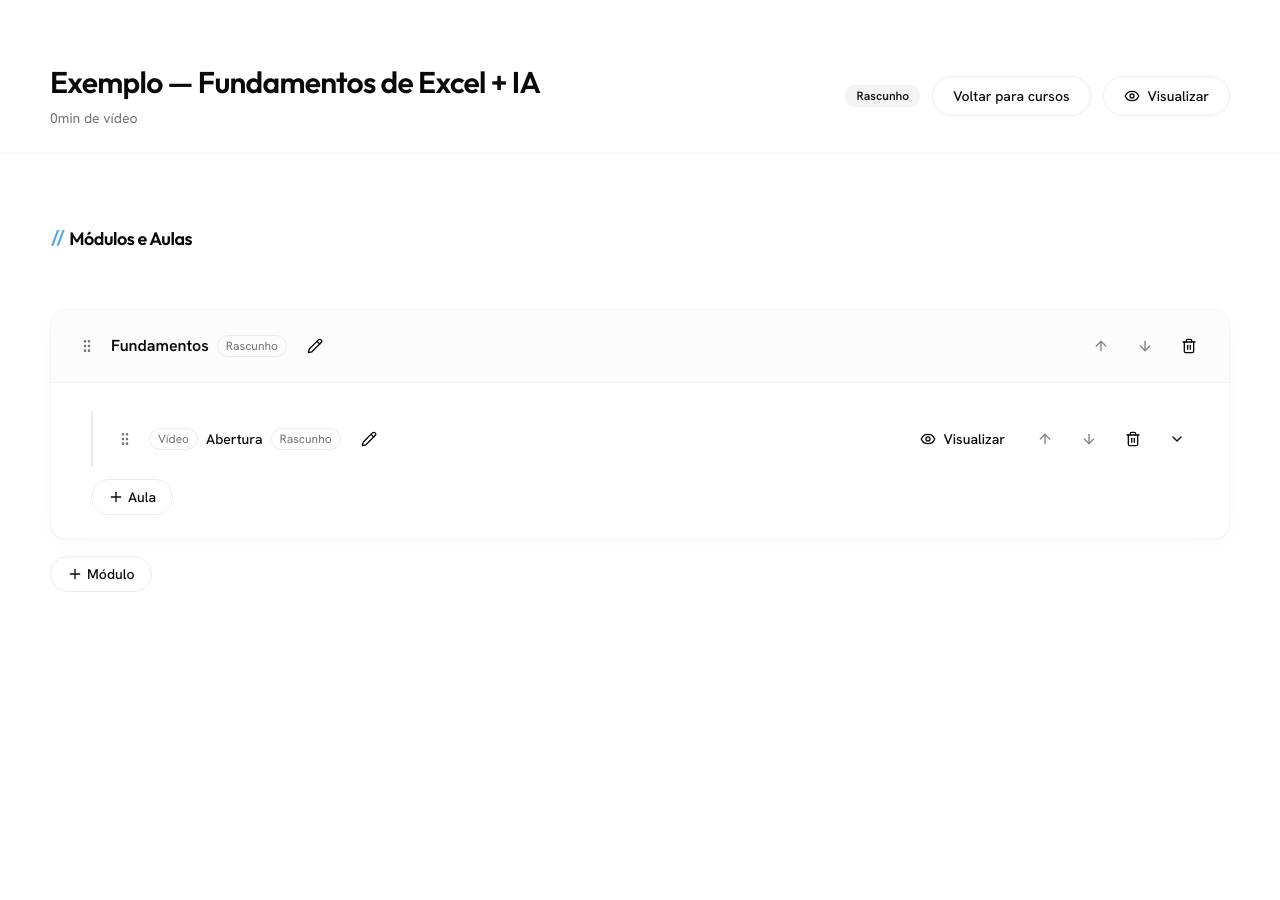
Test: arquivos da aula › aula sem arquivo: diz isso
Click the button named "Abrir a aula Abertura".
click(1177, 439)  # box [1157,419,1197,459]
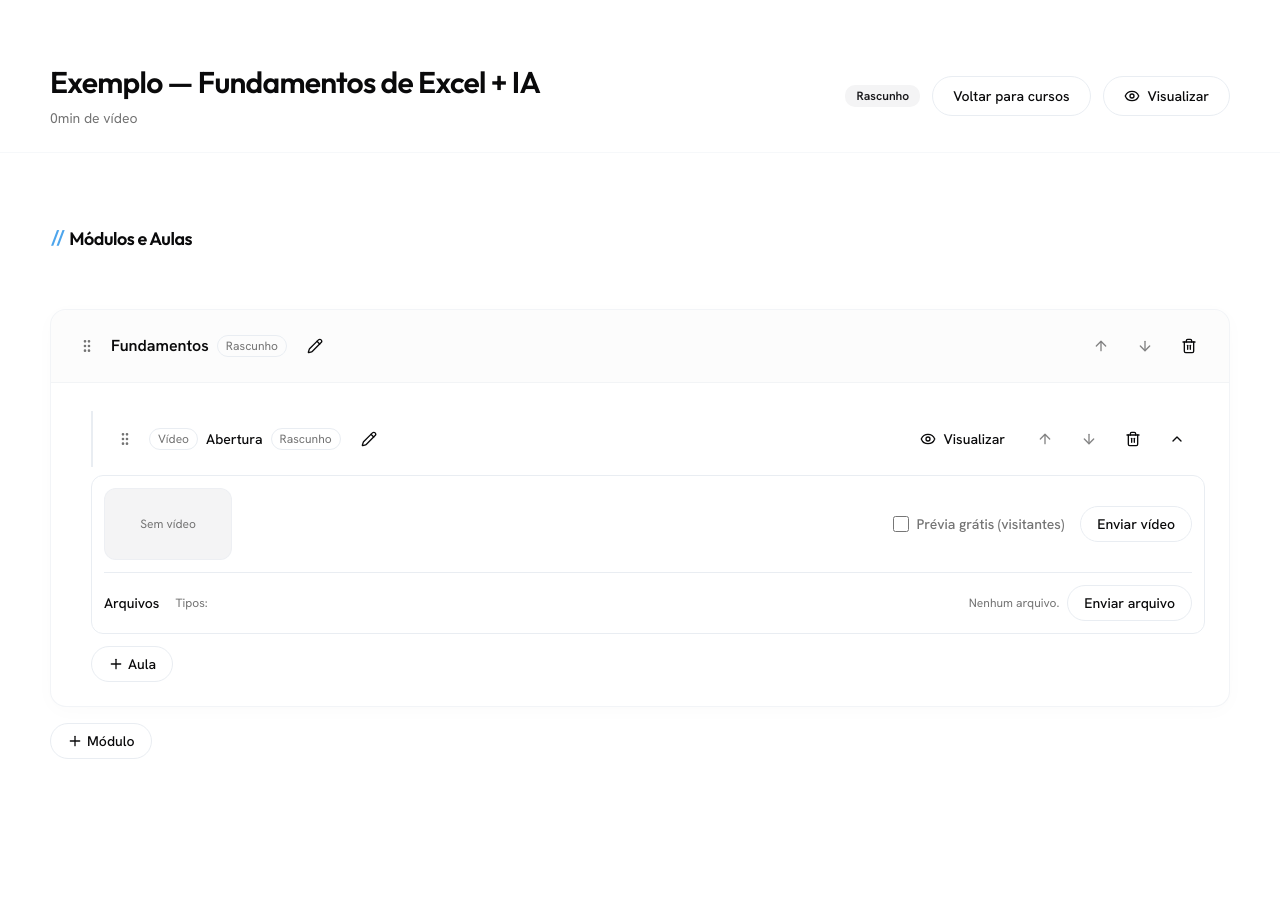
Now the text "Nenhum arquivo." is shown, box [969,595,1059,611]
